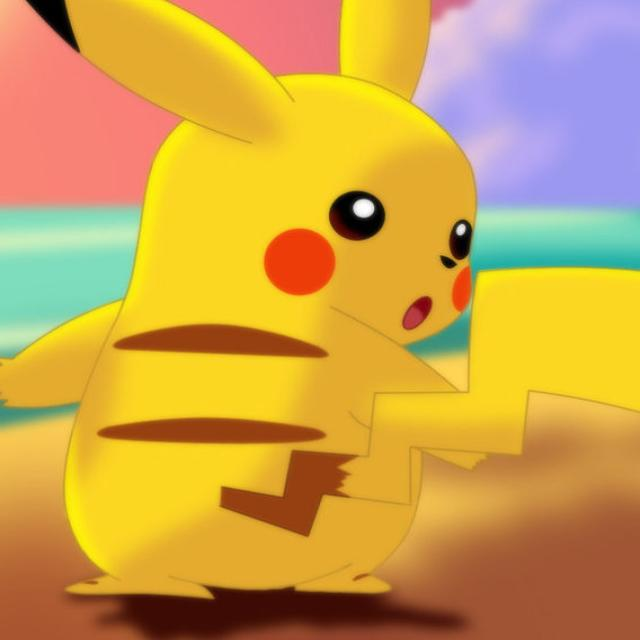Pikachu: (108, 78, 486, 589)
